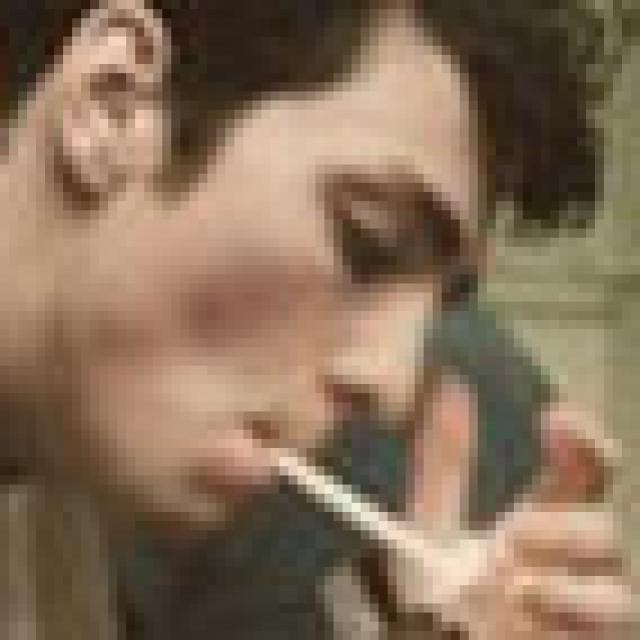smoking: (276, 444, 458, 562)
